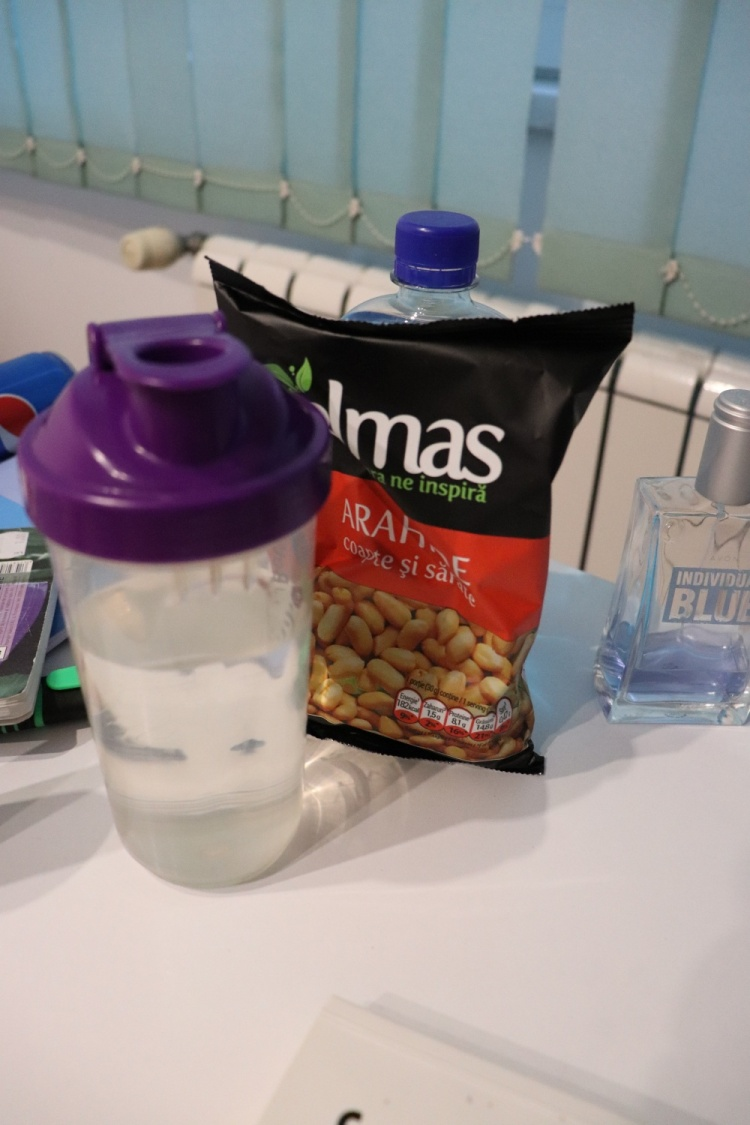peanuts: (201, 254, 644, 825)
